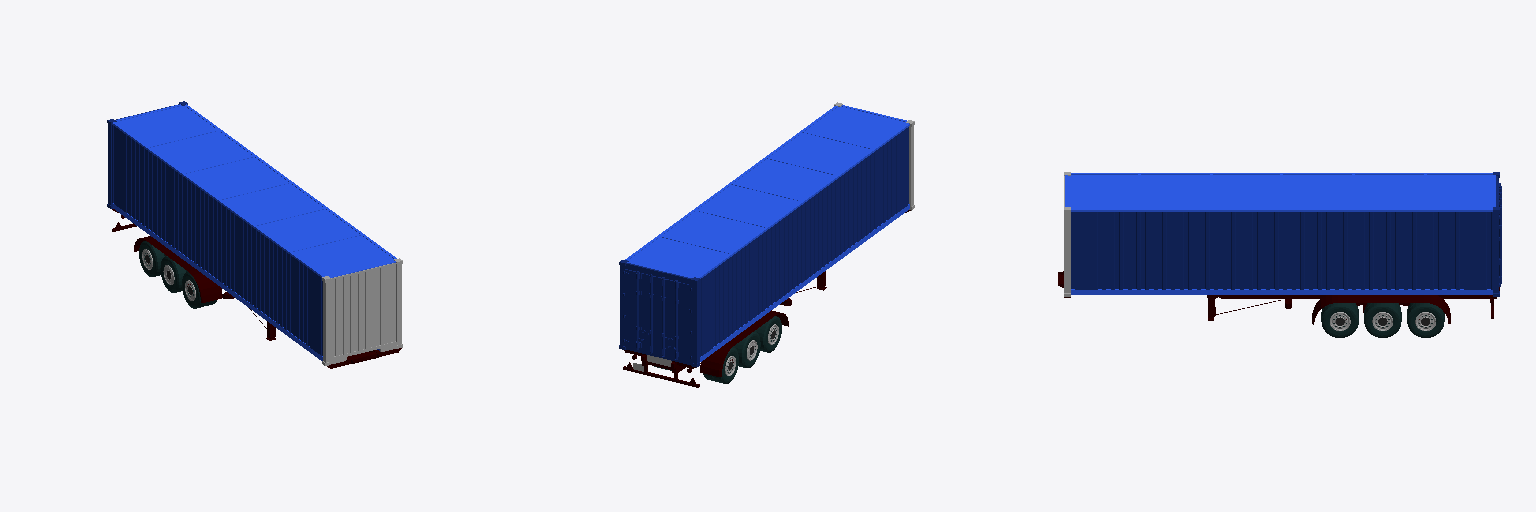
File: tow_tractor_b.obj
3 views of the same model, side by side, from view 1: azimuth 30°, elevation 25°; view 2: azimuth 150°, elevation 25°; view 3: azimuth 270°, elevation 25° (orthographic).
Visible parts, largest first — view 1: P&OLAT01; view 2: P&OLAT01; view 3: P&OLAT01, Object09, Object06, Object01.
Part boxes in pixels (bbox=[...]): P&OLAT01: bbox=[107, 101, 402, 368]; P&OLAT01: bbox=[619, 102, 914, 387]; P&OLAT01: bbox=[1058, 172, 1501, 324]; Object09: bbox=[1364, 303, 1401, 337]; Object06: bbox=[1321, 303, 1358, 337]; Object01: bbox=[1407, 303, 1444, 337].
Size of the model in its own units: 2.55 by 4.08 by 12.65.